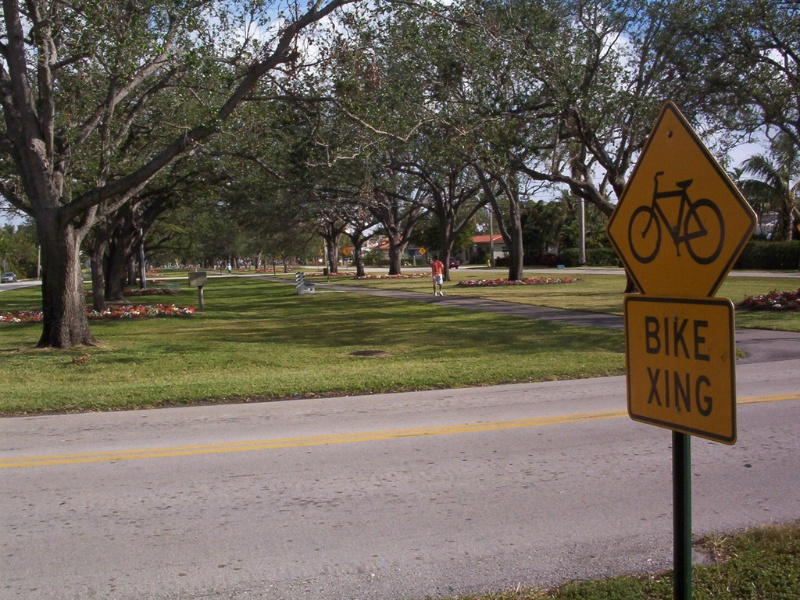bike_xing: (604, 117, 754, 444)
